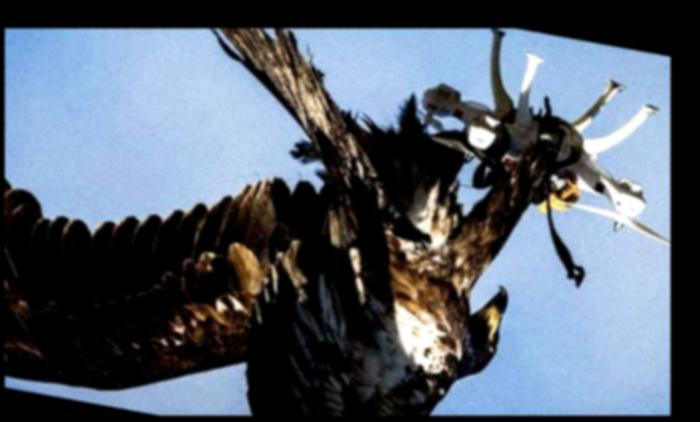Bird: (9, 24, 527, 422)
UAV: (420, 28, 668, 259)
